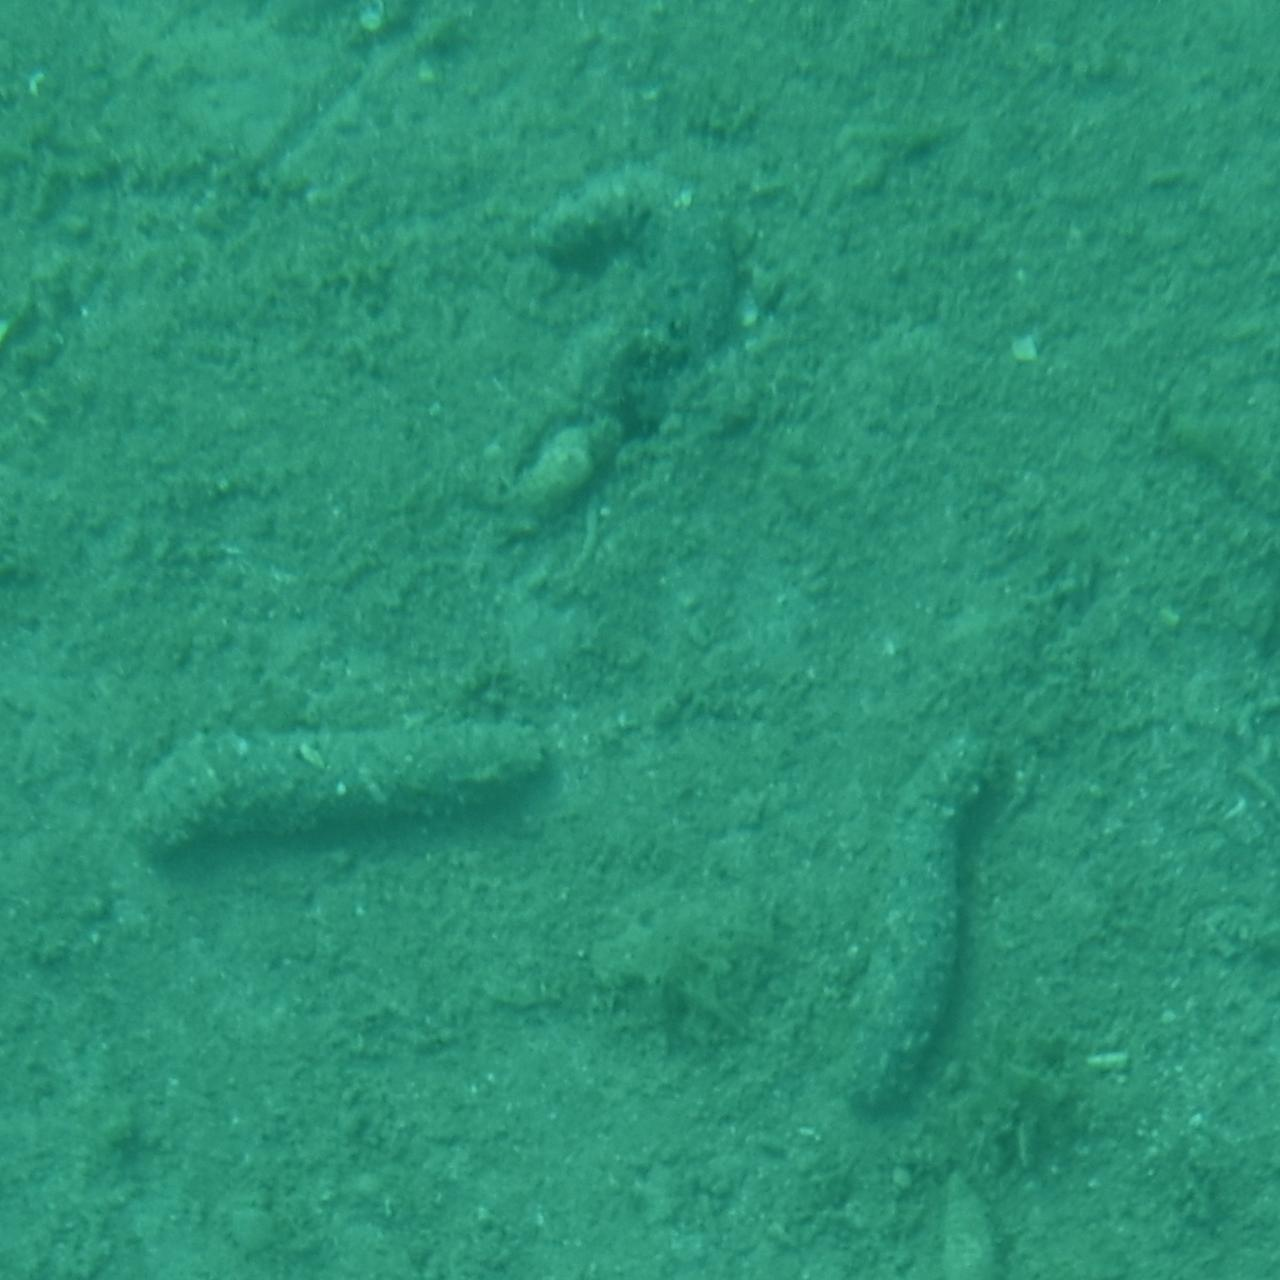Holothuria tubulosa: (815, 716, 1027, 1141), (139, 702, 579, 884), (533, 173, 750, 532)
